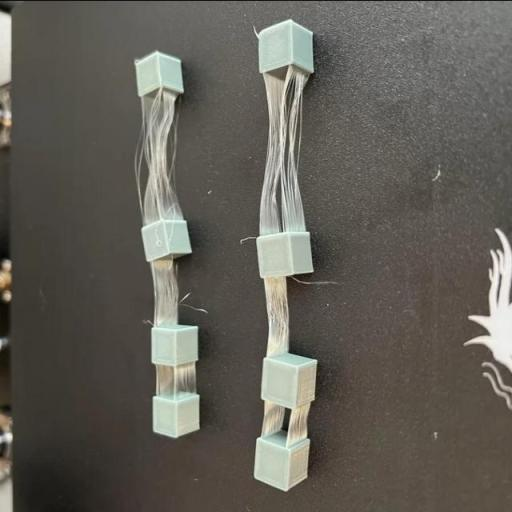stringing: (269, 80, 301, 223), (142, 109, 174, 214), (268, 274, 290, 352), (150, 257, 174, 320), (174, 364, 196, 395)
